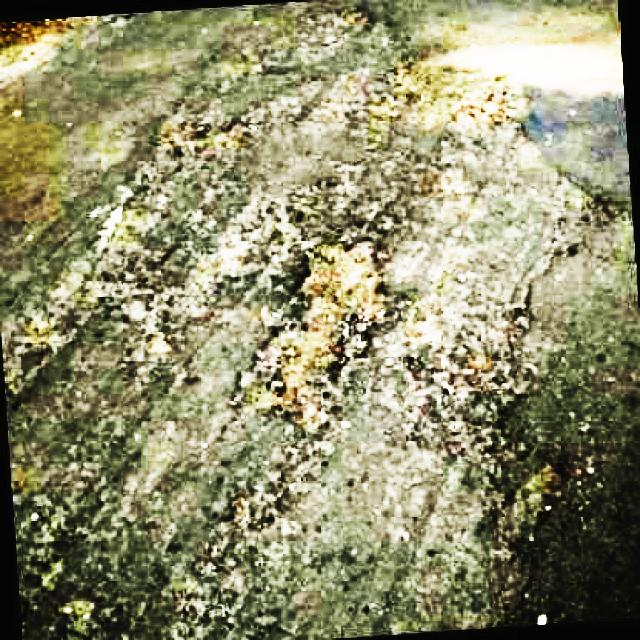pothole: (235, 229, 400, 434), (450, 346, 576, 546), (460, 76, 528, 144)
